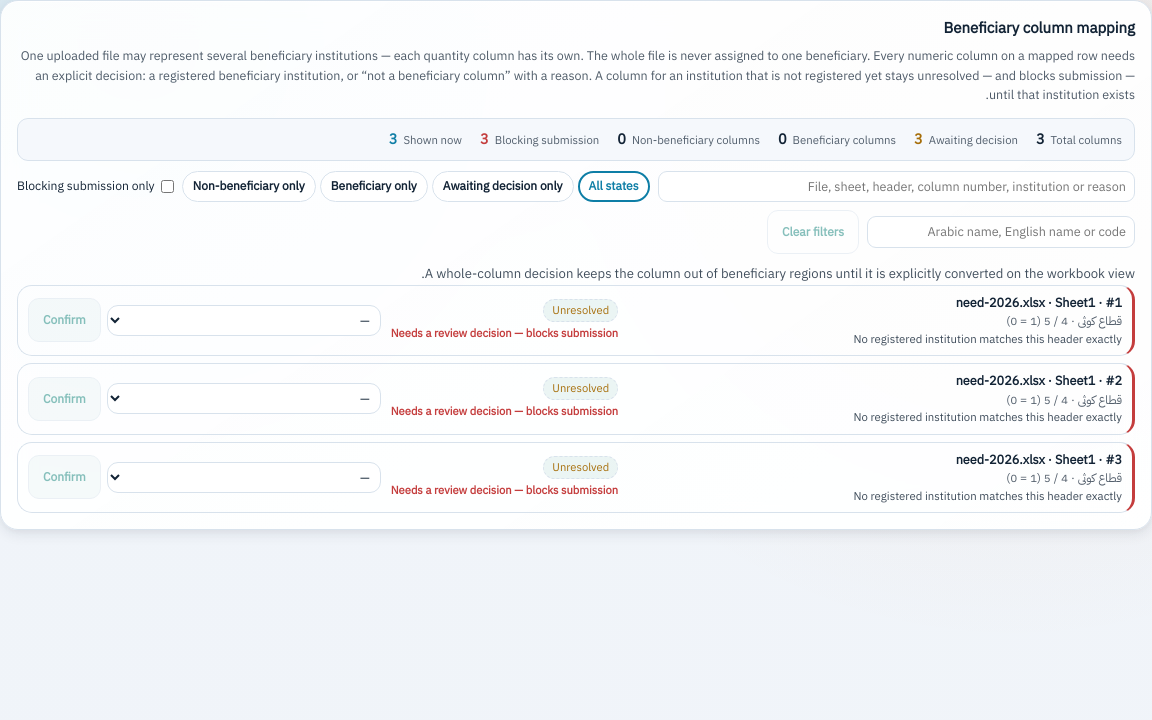
Test: UX-2B — group apply preview › previews the exact unresolved target count, the proposed decision and the group header
Select "Hospital A" in the 1st dropdown named "Column review decision" at [244, 320], box [107,305,381,336]
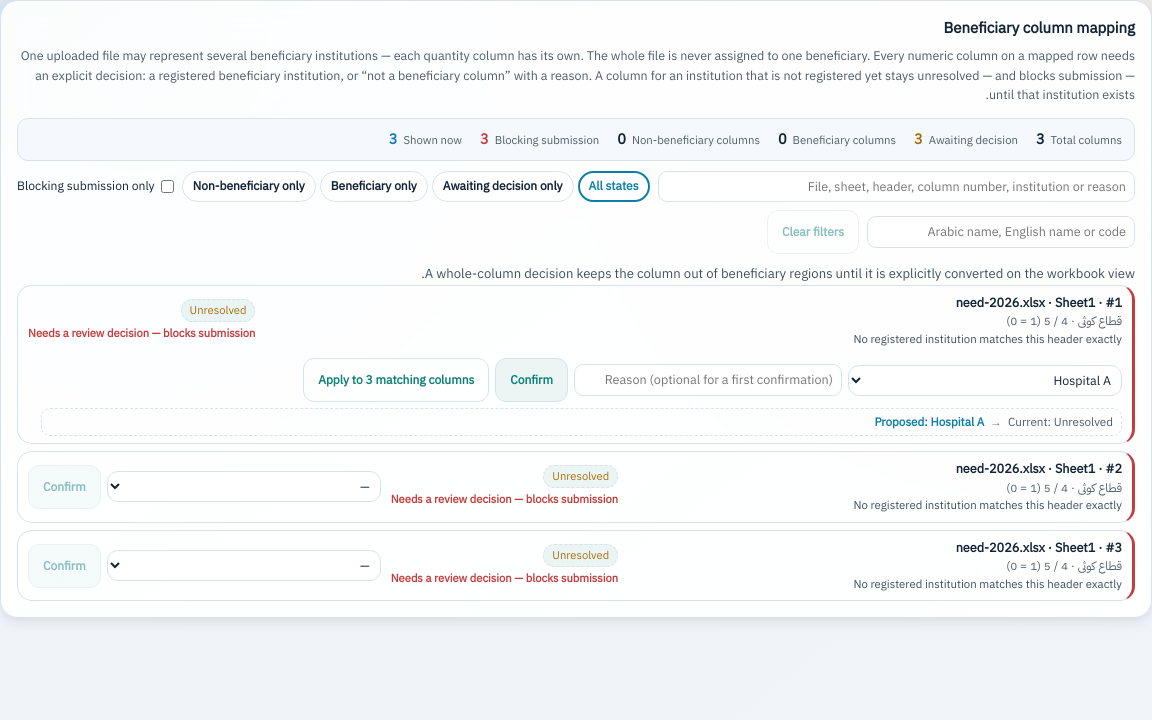
Click the button "Apply to 3 matching columns" at [396, 380], box [303,358,489,402]
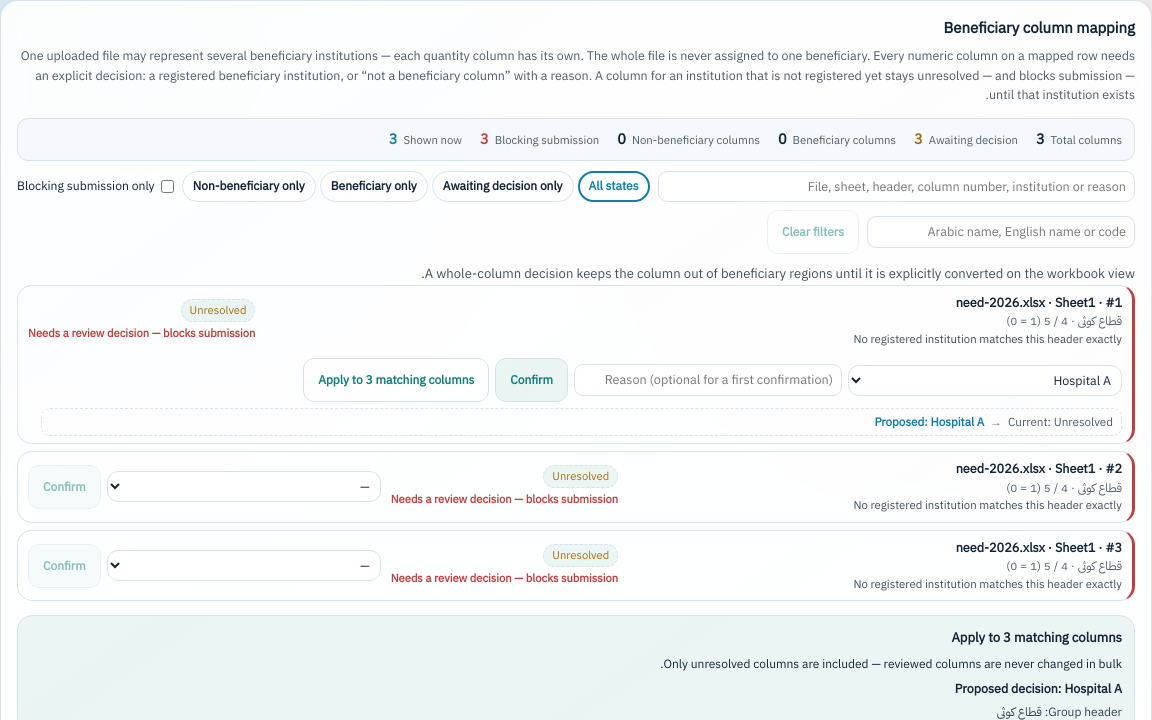
Result: the text with test id "cn2b-bc-group-proposed" shows "Hospital A" at [1064,679,1122,698]
Result: the text with test id "cn2b-bc-group-label" shows "قطاع كوثى" at [997,702,1042,719]
Result: the text "Only unresolved columns are included — reviewed columns are never changed in bulk." is shown at [660,655,1122,673]
